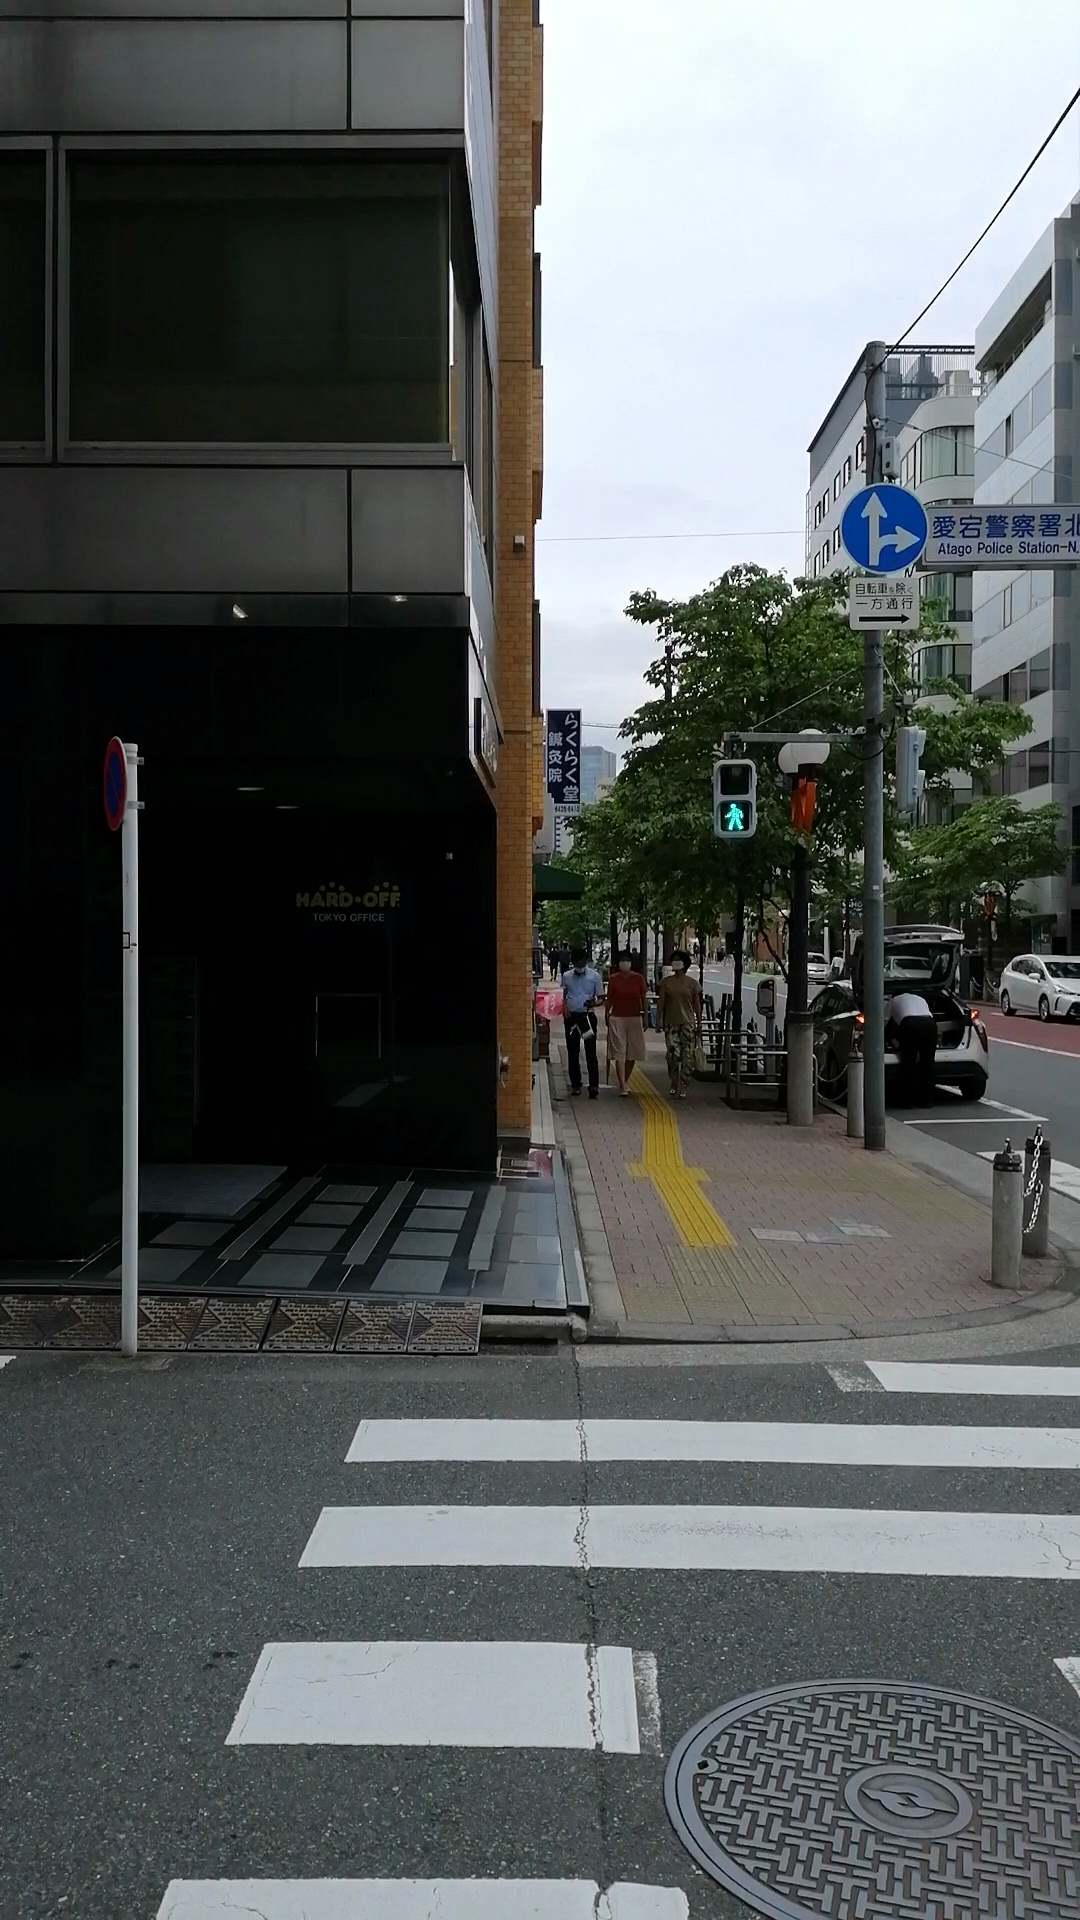green: (711, 757, 756, 836)
